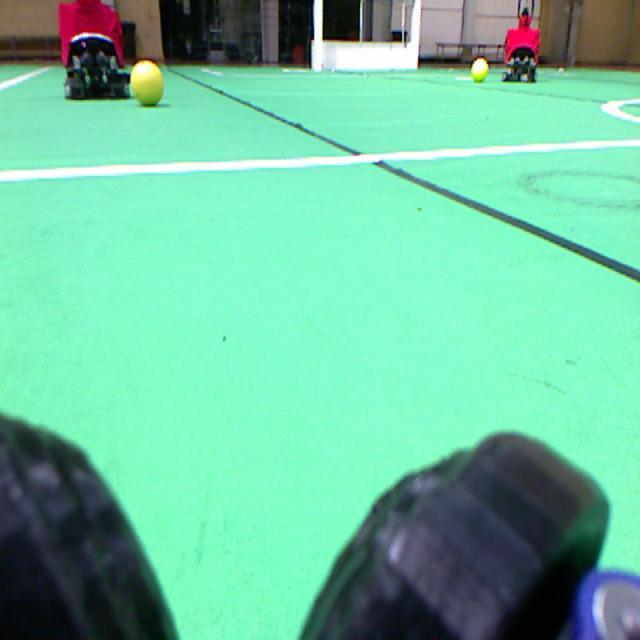ball: (130, 60, 163, 104), (471, 57, 487, 81)
goal: (408, 0, 421, 68), (311, 0, 322, 71)
